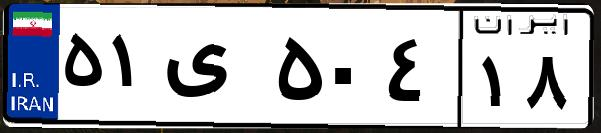0: (330, 28, 385, 110)
1: (475, 38, 525, 113), (110, 28, 158, 98)
4: (385, 28, 445, 110)
5: (270, 28, 330, 110), (57, 26, 110, 100)
8: (525, 38, 570, 115)
ی: (158, 20, 270, 120)
